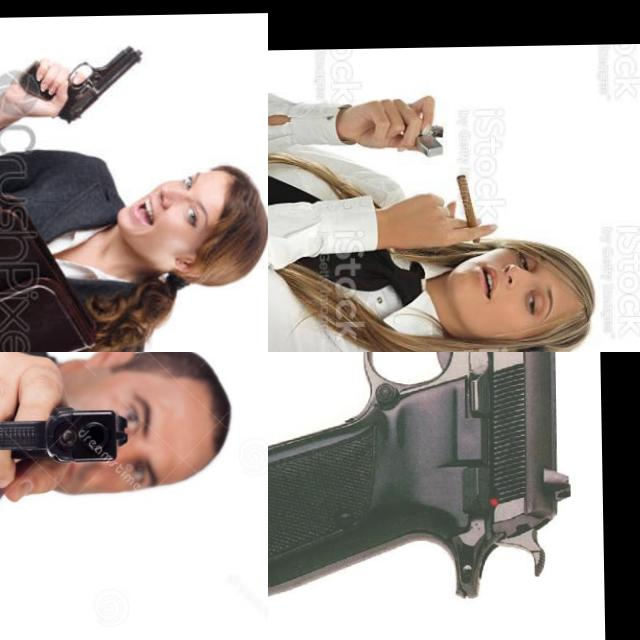handgun: (268, 352, 575, 609), (15, 40, 148, 126), (0, 403, 130, 468)
